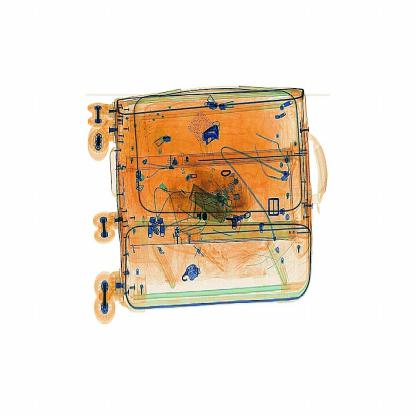knife: (199, 118, 224, 144)
